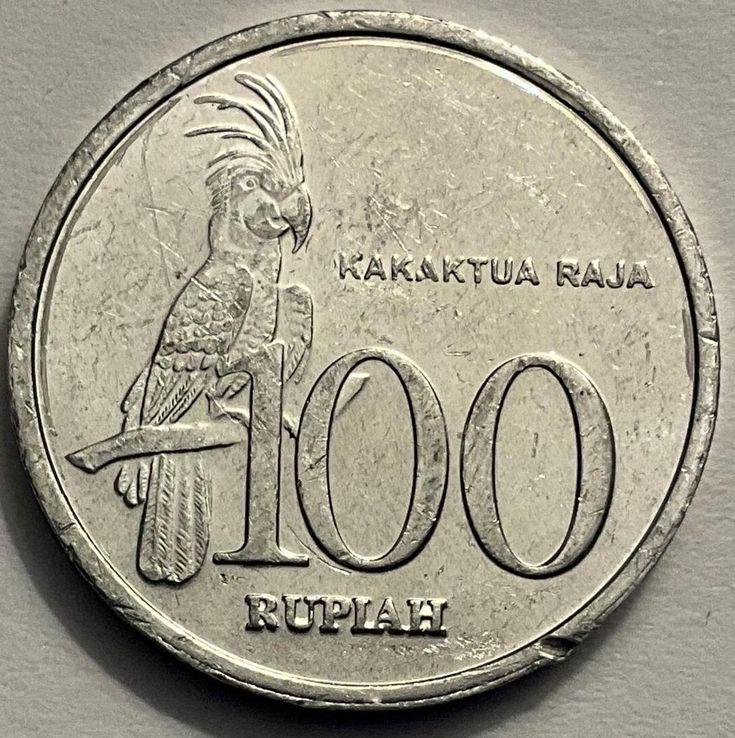coin_100_e1999: (3, 0, 735, 738)
